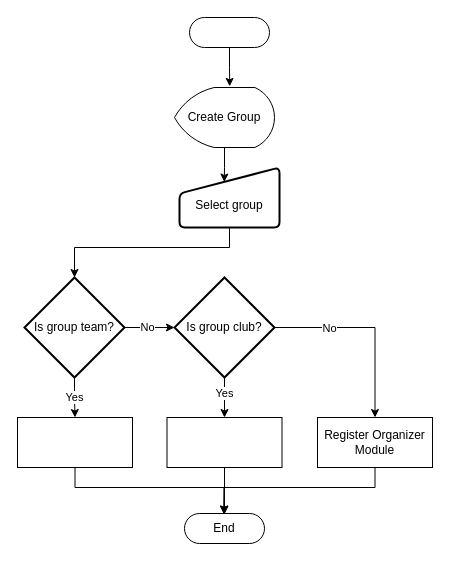
Some shapes in this 450 by 561 pixel diagram are drawn without their labels. The centre of each missing label's shape, as x and y in pixels:
Create Team Module: the point at 74,442
Register Club Module: the point at 224,442
Start: the point at 229,32
